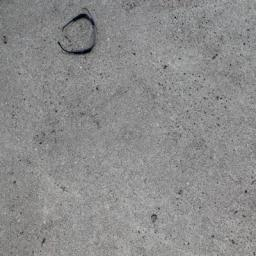FOD: (56, 6, 102, 60)
